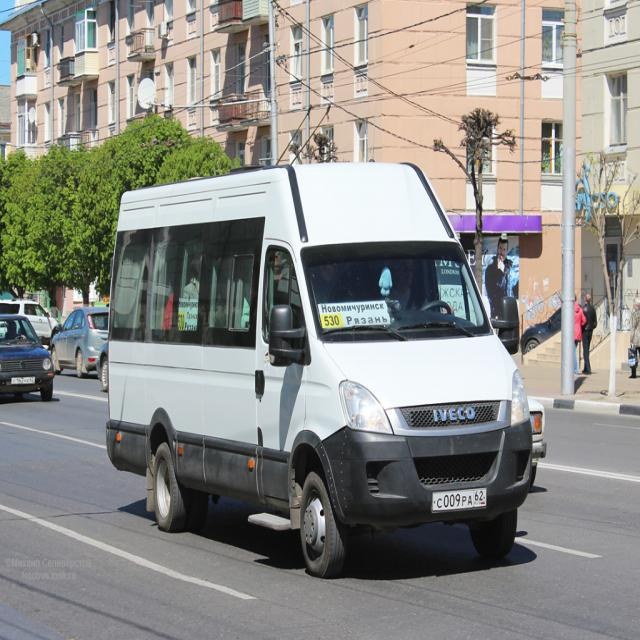number-of-bus: (323, 314, 342, 329)
